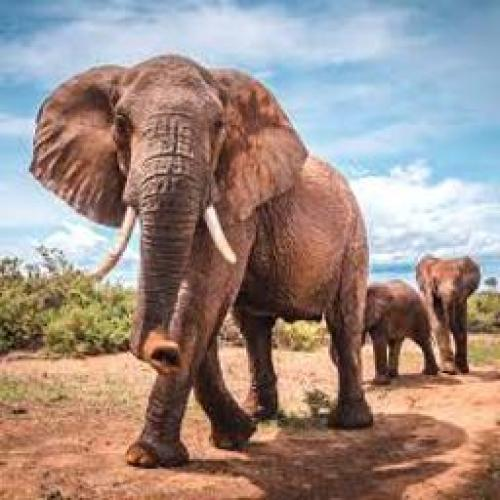african_elephant-endangered: (29, 56, 372, 468), (336, 276, 436, 387), (412, 253, 483, 378)
